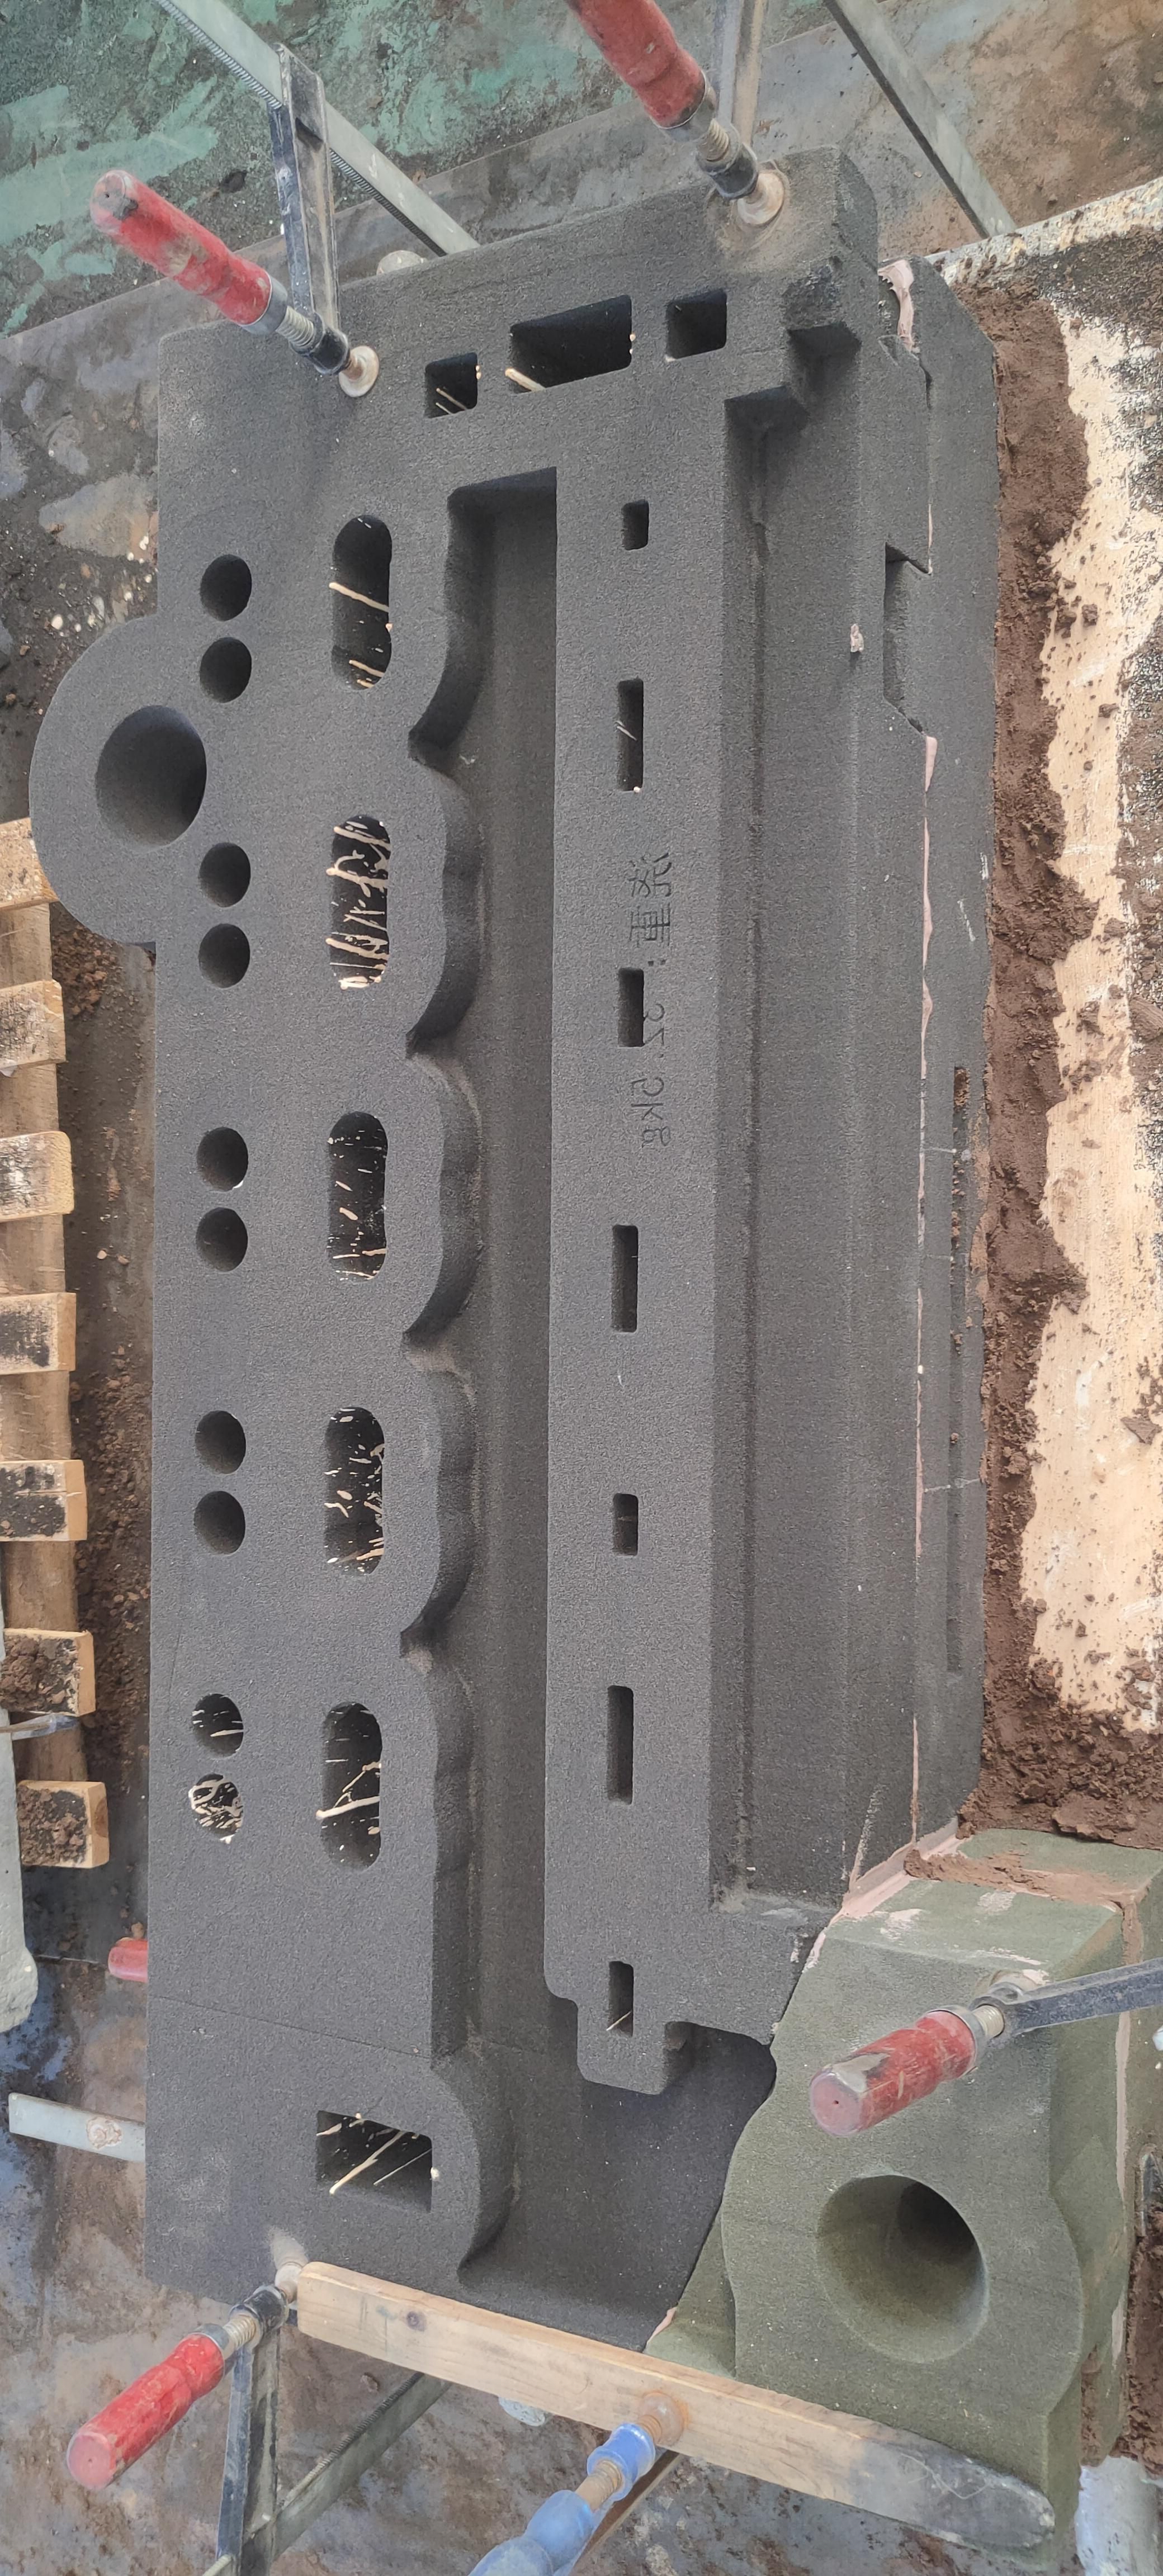pouring hole: (816, 2173, 989, 2362), (94, 705, 209, 853)
